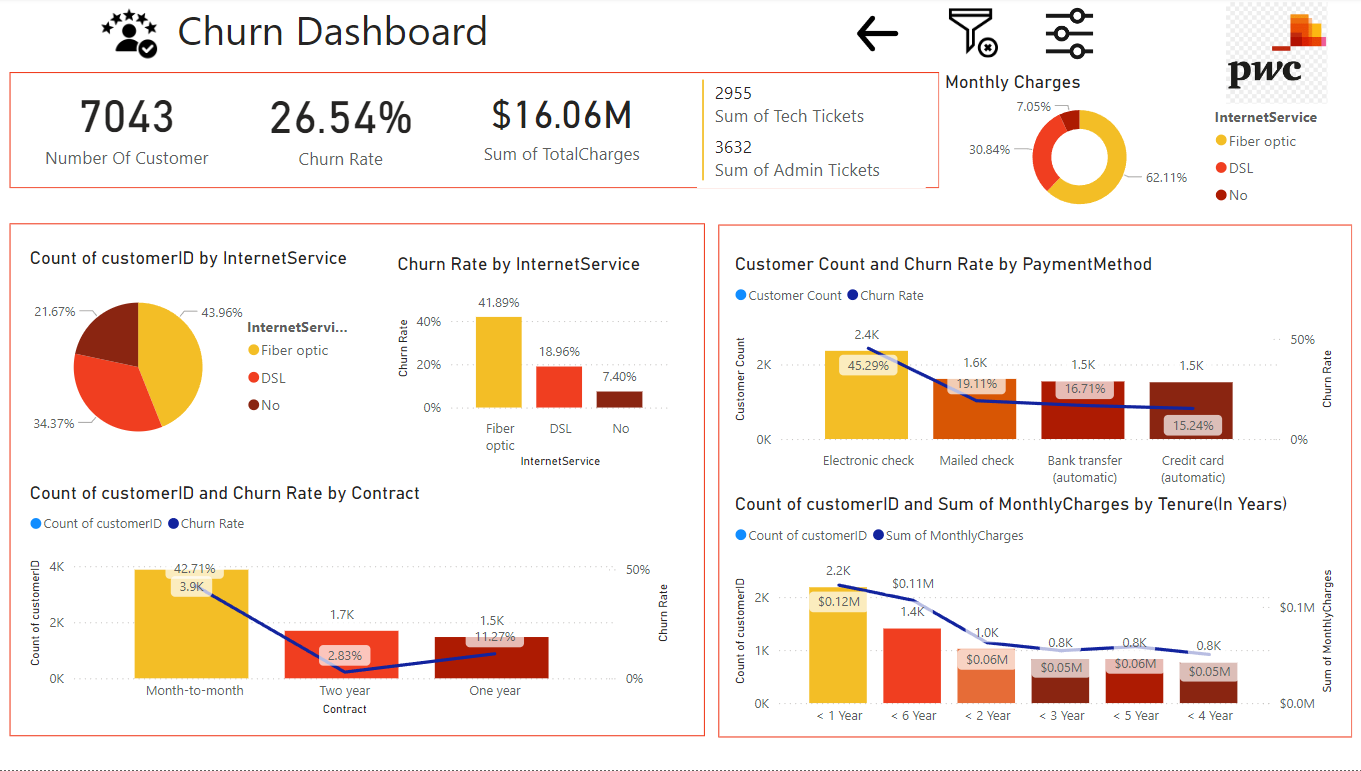

This screenshot's page, from the dashboard's own definition file:
{"tool":"powerbi","page":{"name":"Churn Analysis","canvas":[1280,720],"ordinal":1},"visuals":[{"type":"textbox","title":"Title","box":[172.9,0,466.6,68.6],"z":0,"group":"g4"},{"type":"group","id":"g1","title":"Borders","box":[20.9,69.8,1249.4,618.9],"z":0},{"type":"card","fields":{"Values":["CountNonNull(01 Churn-Dataset.customerID)"]},"box":[34.8,72.3,190.6,90.4],"z":0,"group":"g2"},{"type":"shape","box":[680.4,211.5,589.9,477.2],"z":0,"group":"g1"},{"type":"columnChart","fields":{"Y":["Churn.Churn Rate"],"Category":["Churn.InternetService"]},"box":[377.1,237.9,263,204.5],"z":0,"group":"g3"},{"type":"image","title":"LOGO","box":[1120,0,160,104.3],"z":1000,"group":"g4"},{"type":"group","id":"g2","title":"Card","box":[34.8,72.3,839,105.7],"z":1000},{"type":"card","fields":{"Values":["Churn.Churn Rate"]},"box":[225.4,72.3,207.3,91.8],"z":1000,"group":"g2"},{"type":"shape","box":[20.9,210.1,647,477.2],"z":1000,"group":"g1"},{"type":"pieChart","fields":{"Y":["CountNonNull(Churn.customerID)"],"Category":["Churn.InternetService"]},"box":[34.8,232.3,308.9,204.5],"z":1000,"group":"g3"},{"type":"image","box":[100.3,0,65.4,67.6],"z":2000,"group":"g4"},{"type":"donutChart","title":"Monthly Charges ","fields":{"Category":["Churn.InternetService"],"Y":["Sum(Churn.MonthlyCharges)"]},"box":[886.6,68.8,370.9,141.9],"z":2000},{"type":"shape","box":[21,69.8,865.1,108.1],"z":2000,"group":"g1"},{"type":"card","fields":{"Values":["Sum(01 Churn-Dataset.TotalCharges)"]},"box":[428.5,72.3,211.5,90.4],"z":2000,"group":"g2"},{"type":"lineStackedColumnComboChart","fields":{"Y2":["Churn.Churn Rate"],"Category":["Churn.Contract"],"Y":["CountNonNull(Churn.customerID)"]},"box":[34.8,450.7,605.2,222.6],"z":2000,"group":"g3"},{"type":"multiRowCard","fields":{"Values":["Sum(Churn.numTechTickets)","Sum(Churn.numAdminTickets)"]},"box":[660.9,72.3,212.9,105.7],"z":3000,"group":"g2"},{"type":"group","id":"g3","title":"Graphy","box":[34.8,232.3,1223,455],"z":3000},{"type":"lineStackedColumnComboChart","fields":{"Y":["CountNonNull(Churn.customerID)"],"Y2":["Sum(Churn.MonthlyCharges)"],"Category":["Churn.Tenure(In Years)"]},"box":[690.1,461.9,567.7,225.4],"z":3000,"group":"g3"},{"type":"image","title":"Arrow","box":[795,0,66.2,67.5],"z":3500},{"type":"lineStackedColumnComboChart","fields":{"Y2":["Churn.Churn Rate"],"Y":["CountNonNull(Churn.customerID)"],"Category":["Churn.PaymentMethod"]},"box":[690.1,237.9,567.7,224],"z":4000,"group":"g3"},{"type":"image","title":"Setting","box":[861.6,2.3,75.6,67.4],"z":7000},{"type":"group","id":"g4","title":"Title","box":[100.3,0,1179.7,104.3],"z":8000},{"type":"image","title":"Clear Filter","box":[937,7.2,63.6,54.9],"z":9000}]}

Visuals, with their boxes in screenshot pixels (x1, y1, x2, y2), scaled from the page's 1280x720 canvas onto the 1361x771 screenshot:
"Title" textbox: bbox(184, 0, 680, 73)
"Borders" group: bbox(22, 75, 1351, 737)
card - CountNonNull(01 Churn-Dataset.customerID): bbox(37, 77, 240, 174)
shape: bbox(723, 226, 1351, 737)
columnChart - Churn.Churn Rate x Churn.InternetService: bbox(401, 255, 681, 474)
"LOGO" image: bbox(1191, 0, 1360, 112)
"Card" group: bbox(37, 77, 929, 191)
card - Churn.Churn Rate: bbox(240, 77, 460, 176)
shape: bbox(22, 225, 710, 736)
pieChart - CountNonNull(Churn.customerID) x Churn.InternetService: bbox(37, 249, 365, 468)
image: bbox(107, 0, 176, 72)
"Monthly Charges " donutChart: bbox(943, 74, 1337, 226)
shape: bbox(22, 75, 942, 191)
card - Sum(01 Churn-Dataset.TotalCharges): bbox(456, 77, 680, 174)
lineStackedColumnComboChart - Churn.Churn Rate x Churn.Contract: bbox(37, 483, 680, 721)
multiRowCard - Sum(Churn.numTechTickets) x Sum(Churn.numAdminTickets): bbox(703, 77, 929, 191)
"Graphy" group: bbox(37, 249, 1337, 736)
lineStackedColumnComboChart - CountNonNull(Churn.customerID) x Sum(Churn.MonthlyCharges): bbox(734, 495, 1337, 736)
"Arrow" image: bbox(845, 0, 916, 72)
lineStackedColumnComboChart - Churn.Churn Rate x CountNonNull(Churn.customerID): bbox(734, 255, 1337, 495)
"Setting" image: bbox(916, 2, 997, 75)
"Title" group: bbox(107, 0, 1360, 112)
"Clear Filter" image: bbox(996, 8, 1064, 66)
